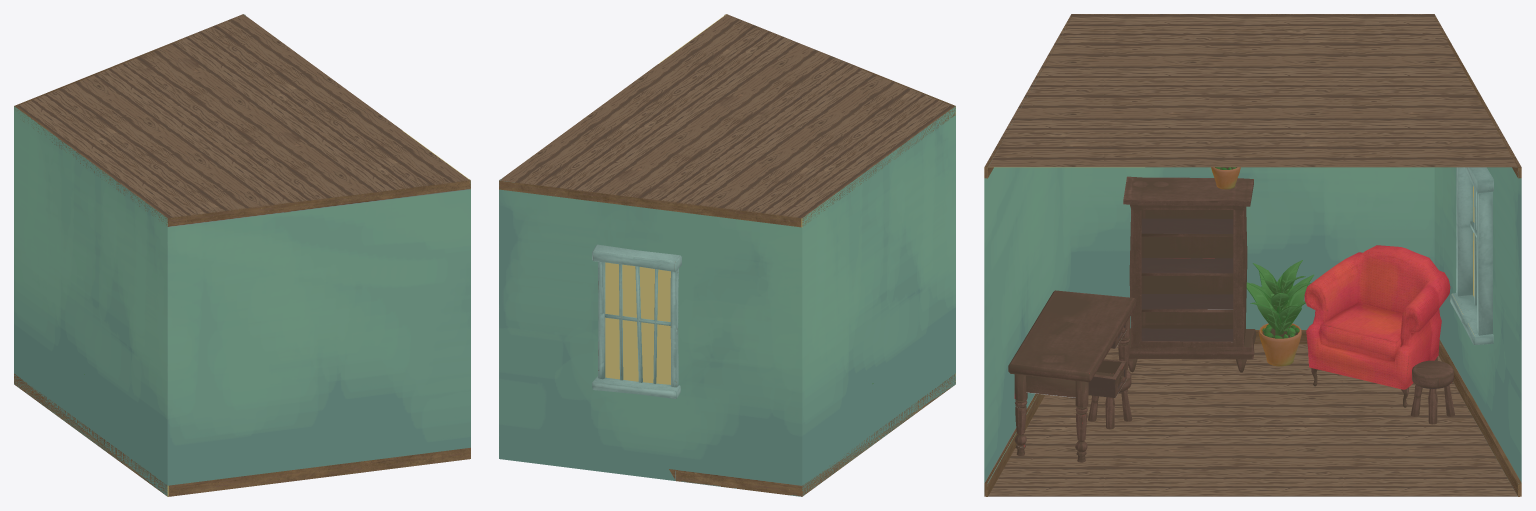
The model's file is room.glb.
The picture shows the model from 3 angles, left to right: view 1: azimuth 30°, elevation 25°; view 2: azimuth 150°, elevation 25°; view 3: azimuth 270°, elevation 25°; orthographic projection. The views are drawn at different scales.
Visible parts, largest first — view 1: house; view 2: house; view 3: house.
Part boxes in pixels (x1,y1,x2,y2): house: [14, 14, 470, 496]; house: [499, 14, 955, 496]; house: [984, 14, 1521, 496].
Bounding box in the file's own units: 71.68 × 71.46 × 106.
3 materials, 3 textured.
